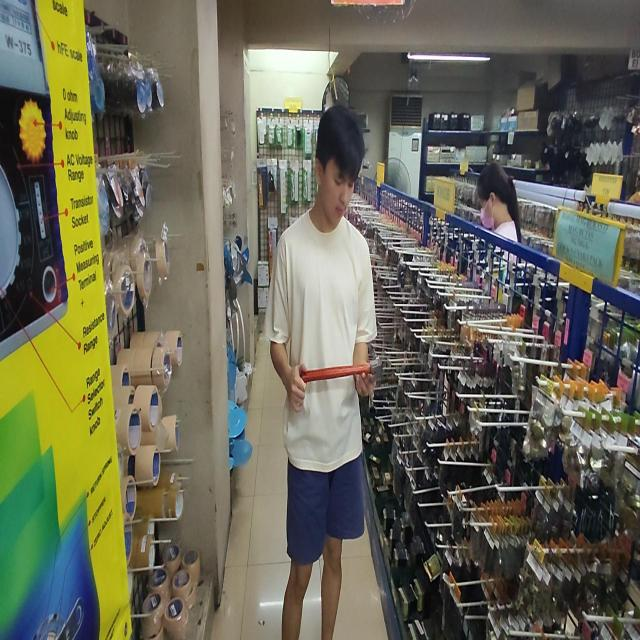hammer: (301, 352, 384, 384)
